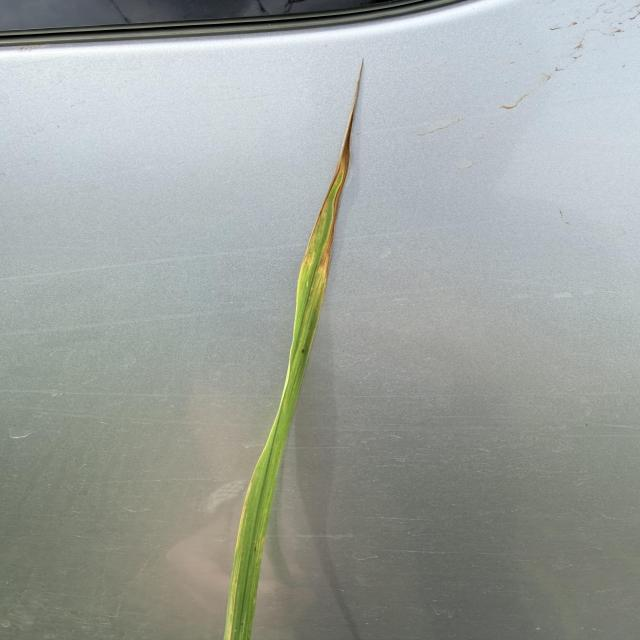Chay bia la: (301, 58, 365, 284)
